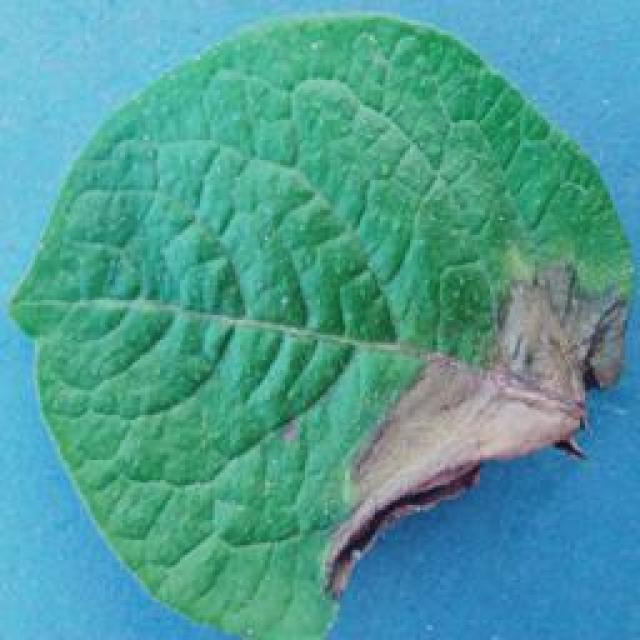Potato_Late_Blight: (9, 17, 630, 635)
